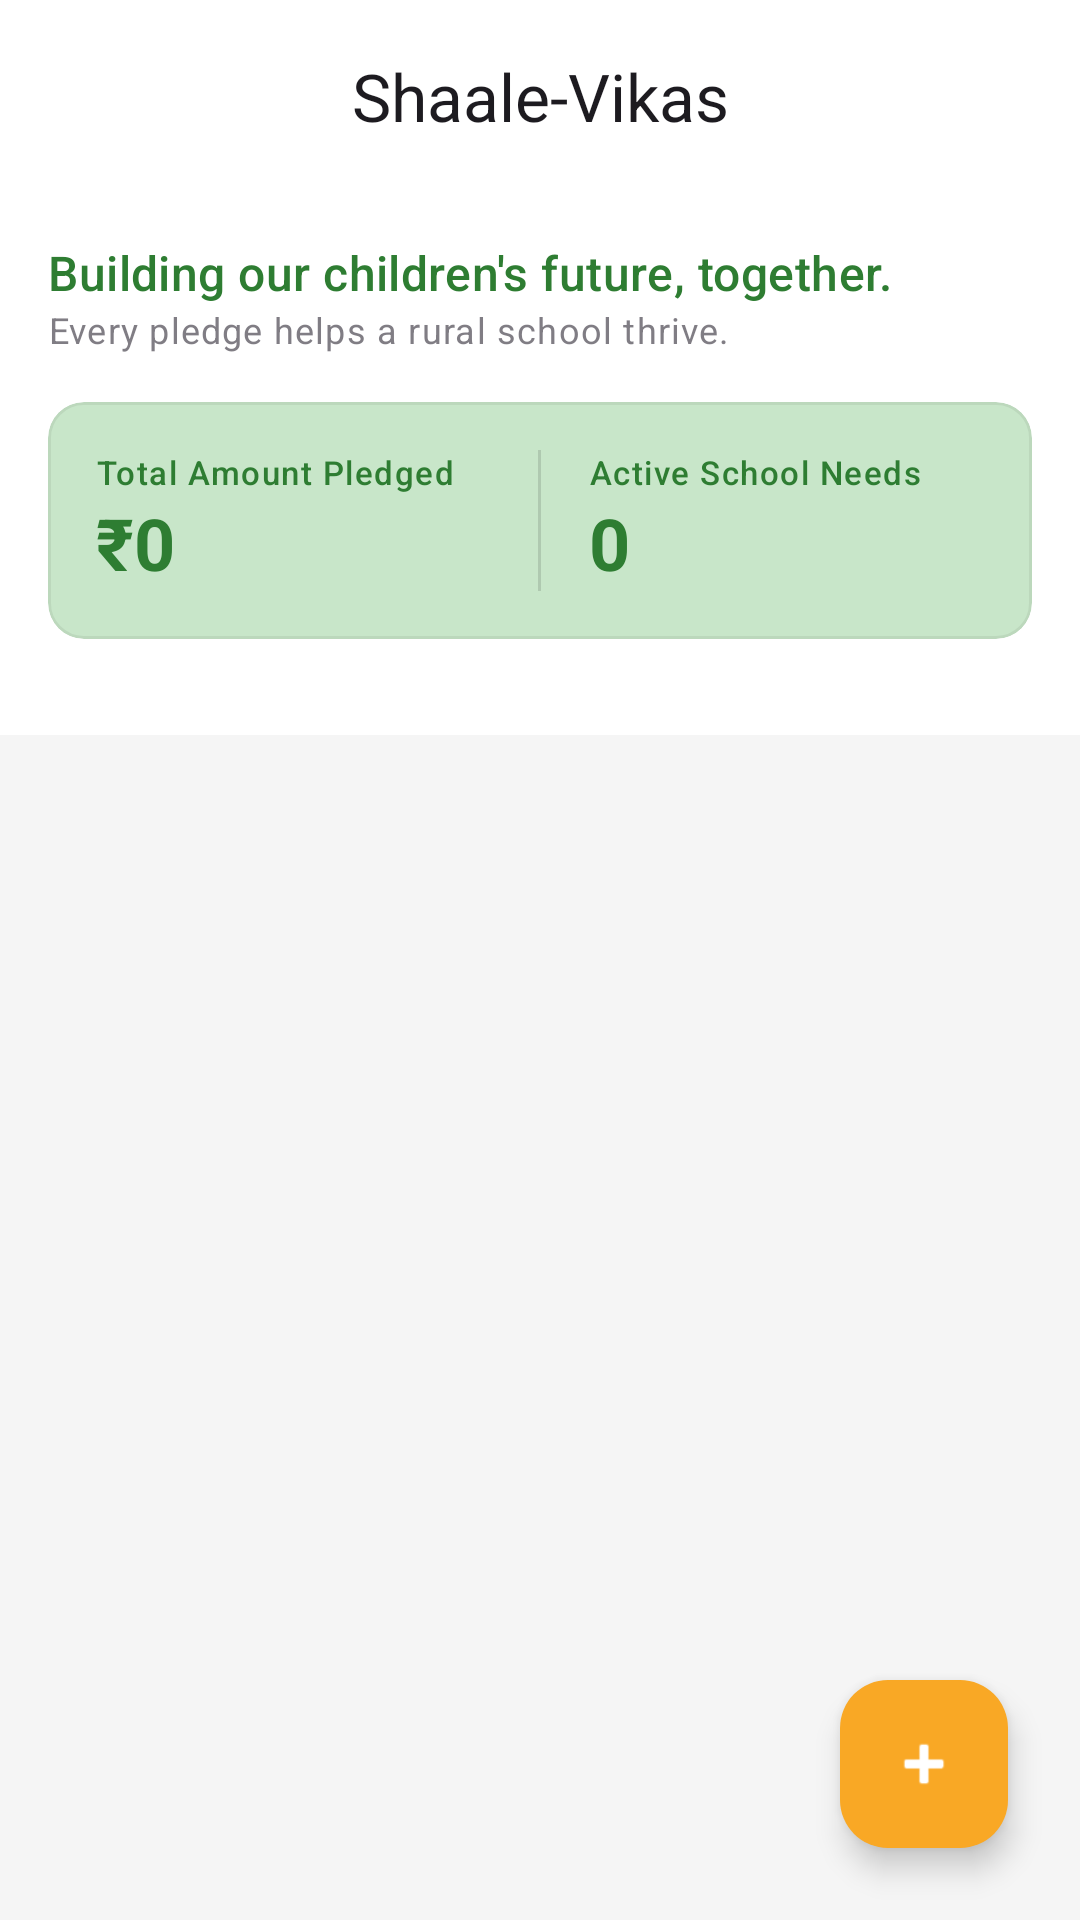

Named icons in this screenshot (1080 x 1920) and their bounding boxes, box=[x1, y1, x2, y2]:
Add New Need: box=[840, 1680, 1008, 1848]
